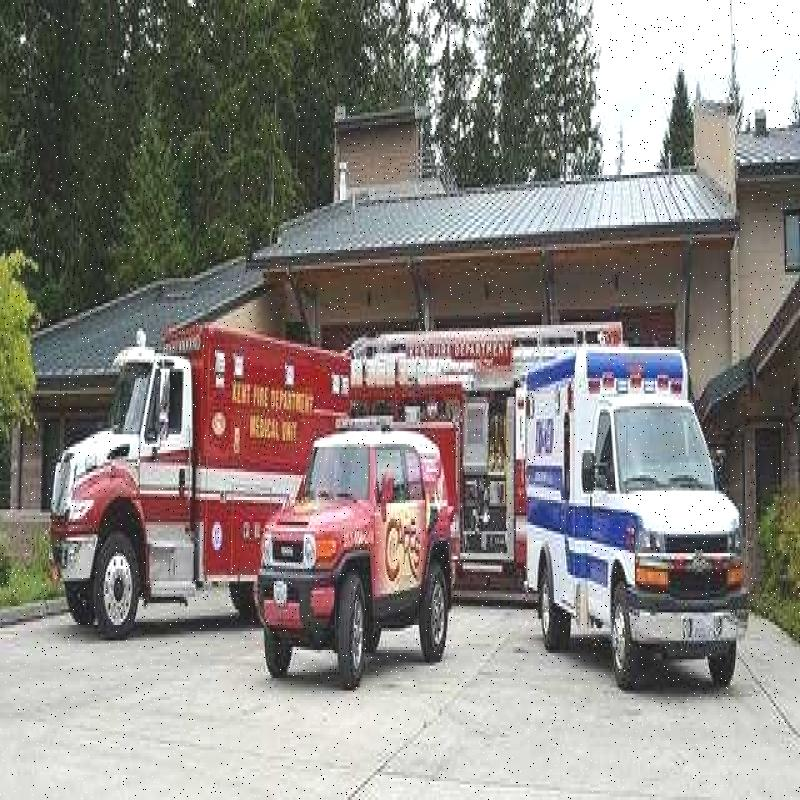AmbulanceSiren: (586, 356, 682, 411)
